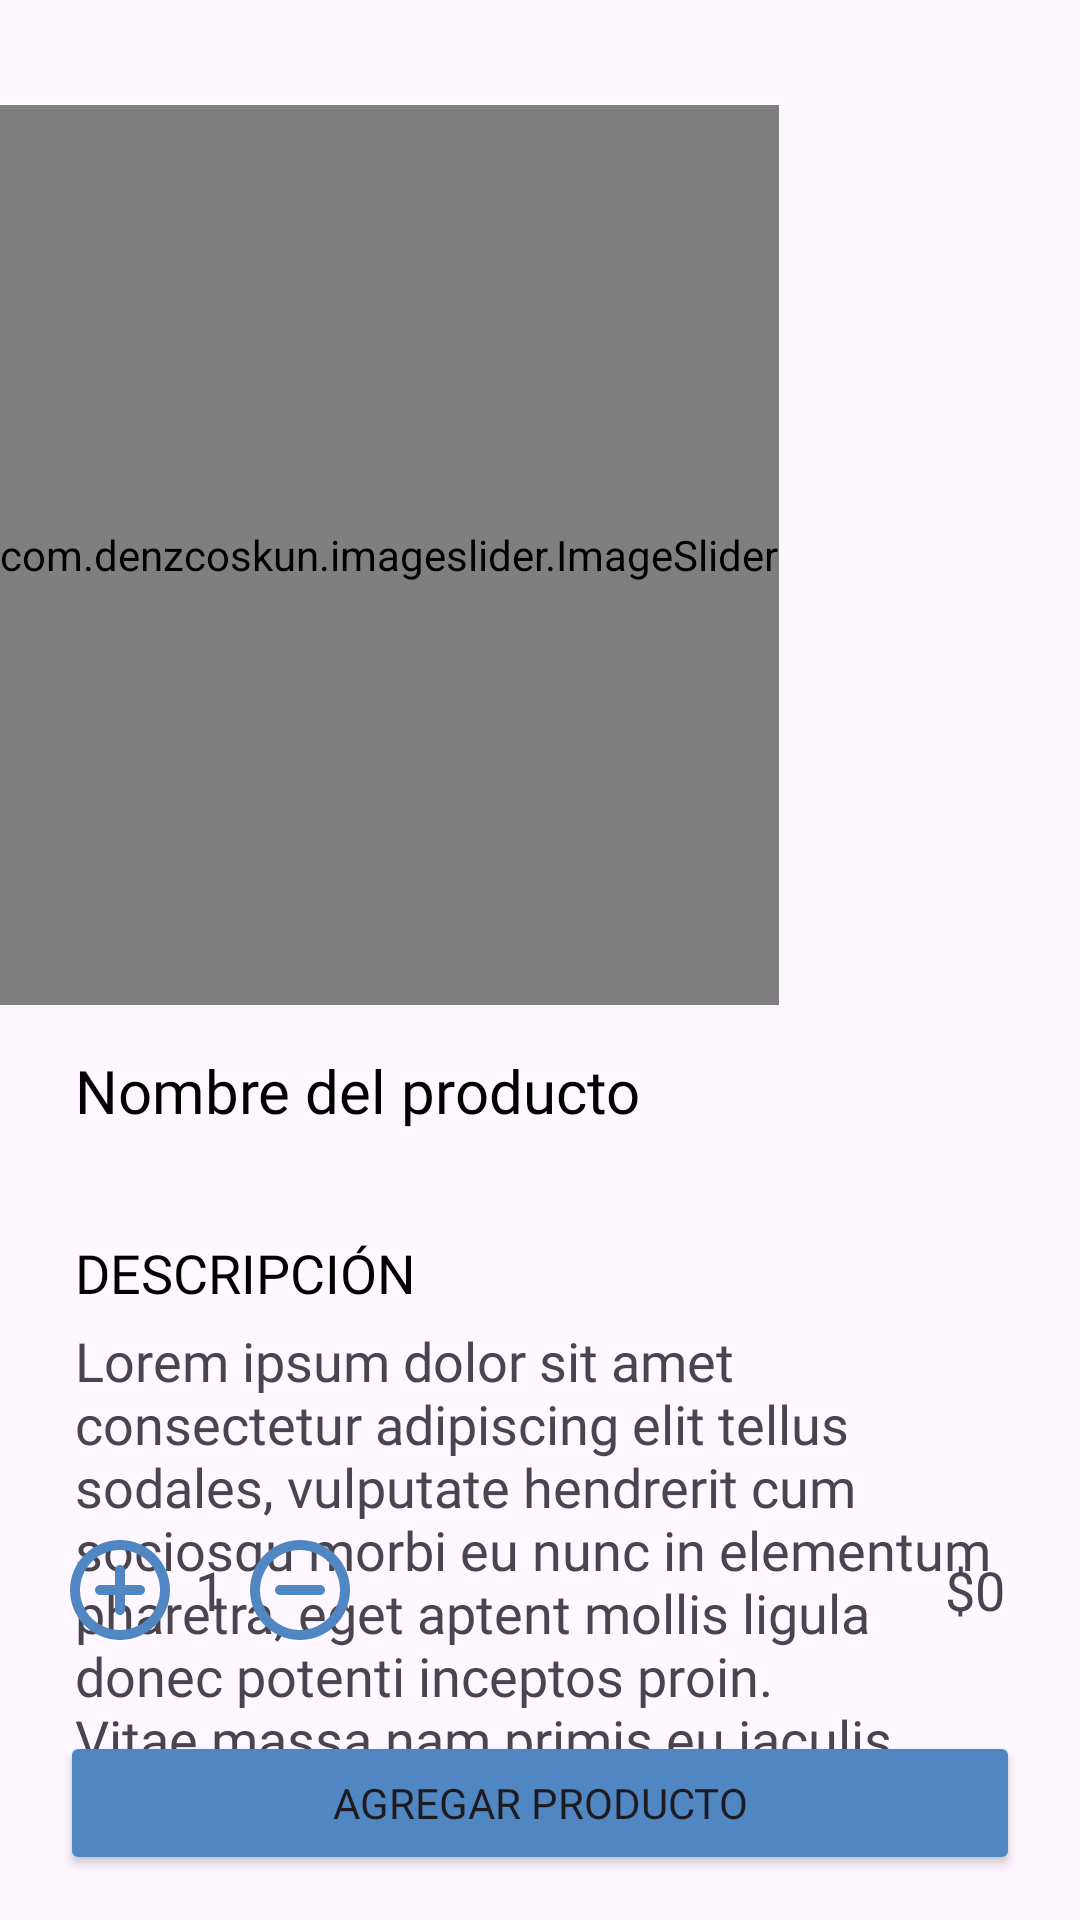

Screen size 1080*1920. Icon name, then its box in pixels as {"left": x1, "top": y1, "right": x2, "bottom": y2}:
add: {"left": 70, "top": 1532, "right": 180, "bottom": 1645}
remove: {"left": 240, "top": 1540, "right": 354, "bottom": 1646}
